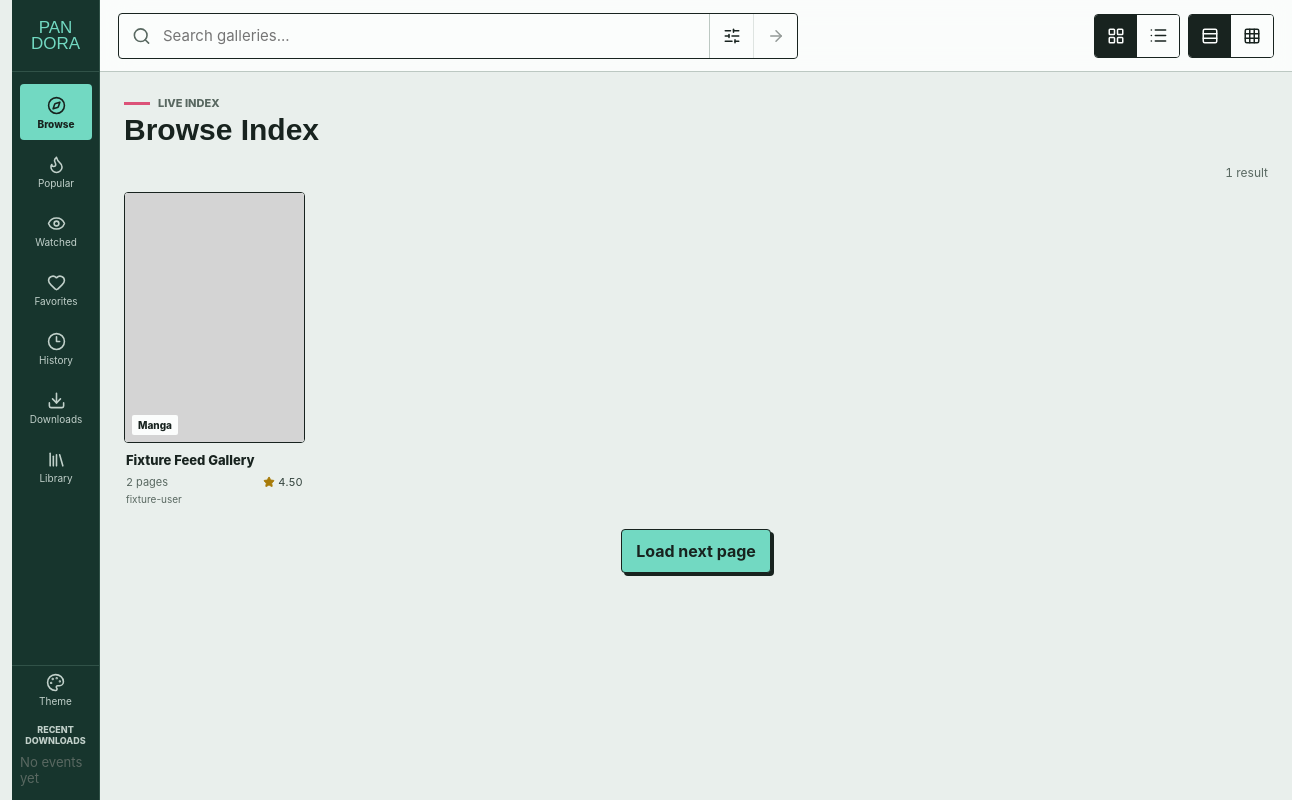
it: App gallery feed › switches the feed with a typed navigation view
Click the button "Popular": (56, 171) [20, 143, 92, 199]
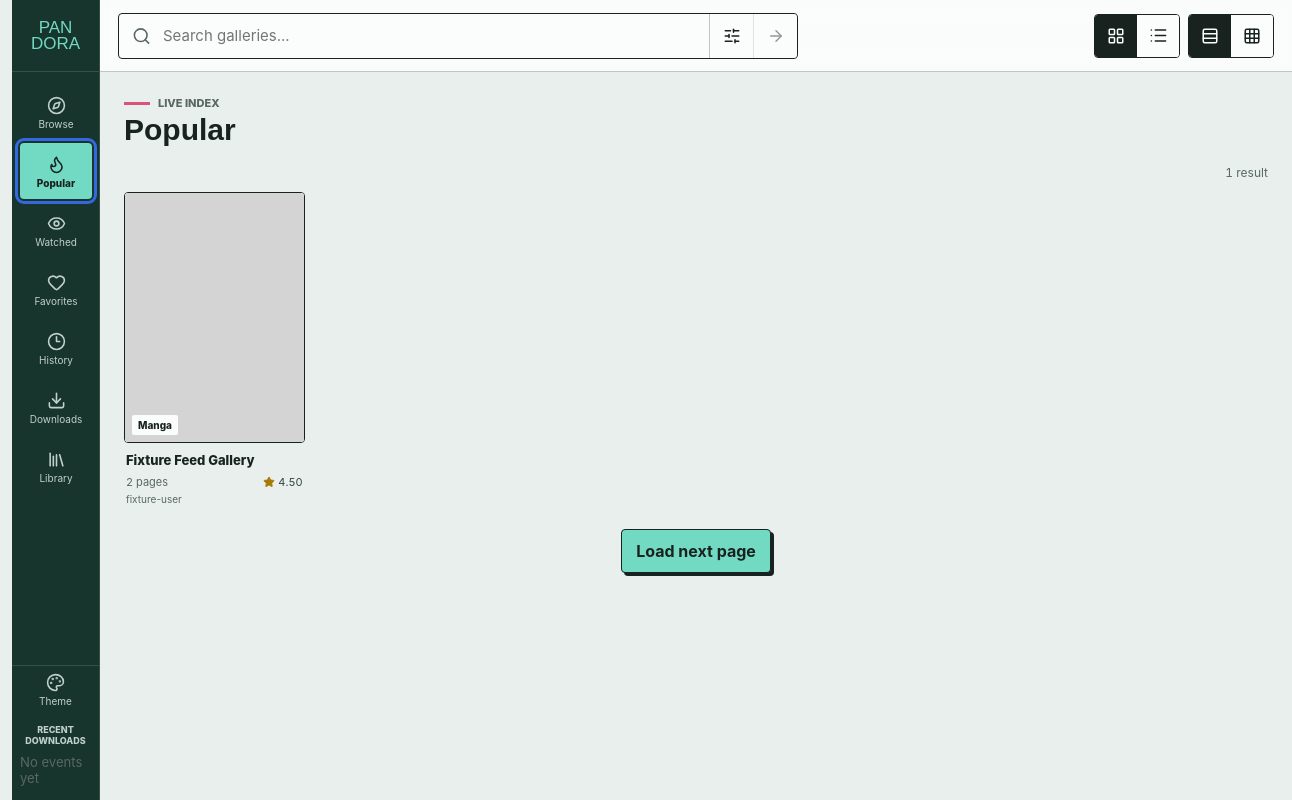
Expected: the heading "Popular" is shown, [124, 114, 236, 146]
